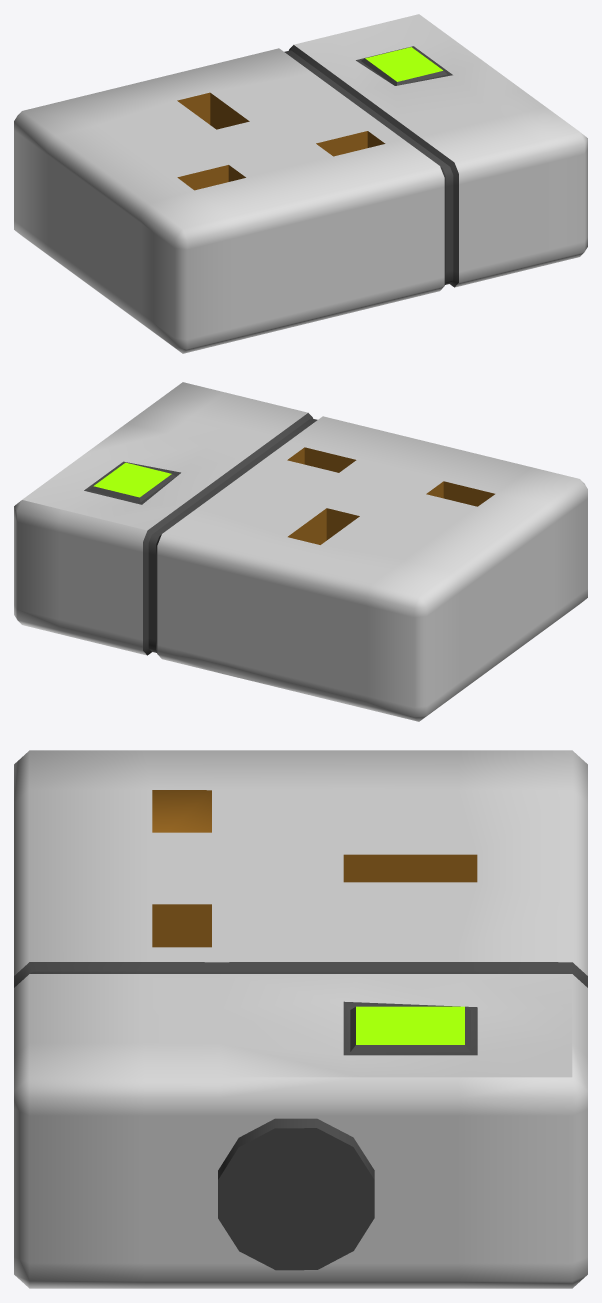
File: Power-Extender.fbx
3 renders of one model, top to bottom at view 1: azimuth 30°, elevation 25°; view 2: azimuth 150°, elevation 25°; view 3: azimuth 270°, elevation 25°, orthographic. The views are drawn at different scales.
Parts seen in each view (by area): view 1: Extender; view 2: Extender; view 3: Extender.
Part boxes in pixels (<box>): Extender: <box>14,14,587,353</box>; Extender: <box>14,382,587,721</box>; Extender: <box>14,750,587,1288</box>.
Size of the model in its own units: 45.54 by 12.82 by 31.58.
